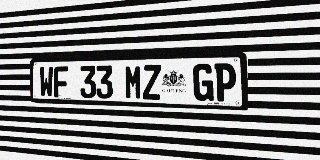3: (96, 65, 113, 99), (80, 66, 96, 98)
F: (54, 66, 68, 98)
G: (193, 63, 214, 101)
M: (125, 65, 142, 99)
P: (214, 63, 236, 102)
W: (39, 66, 53, 97)
Z: (143, 64, 161, 100)
